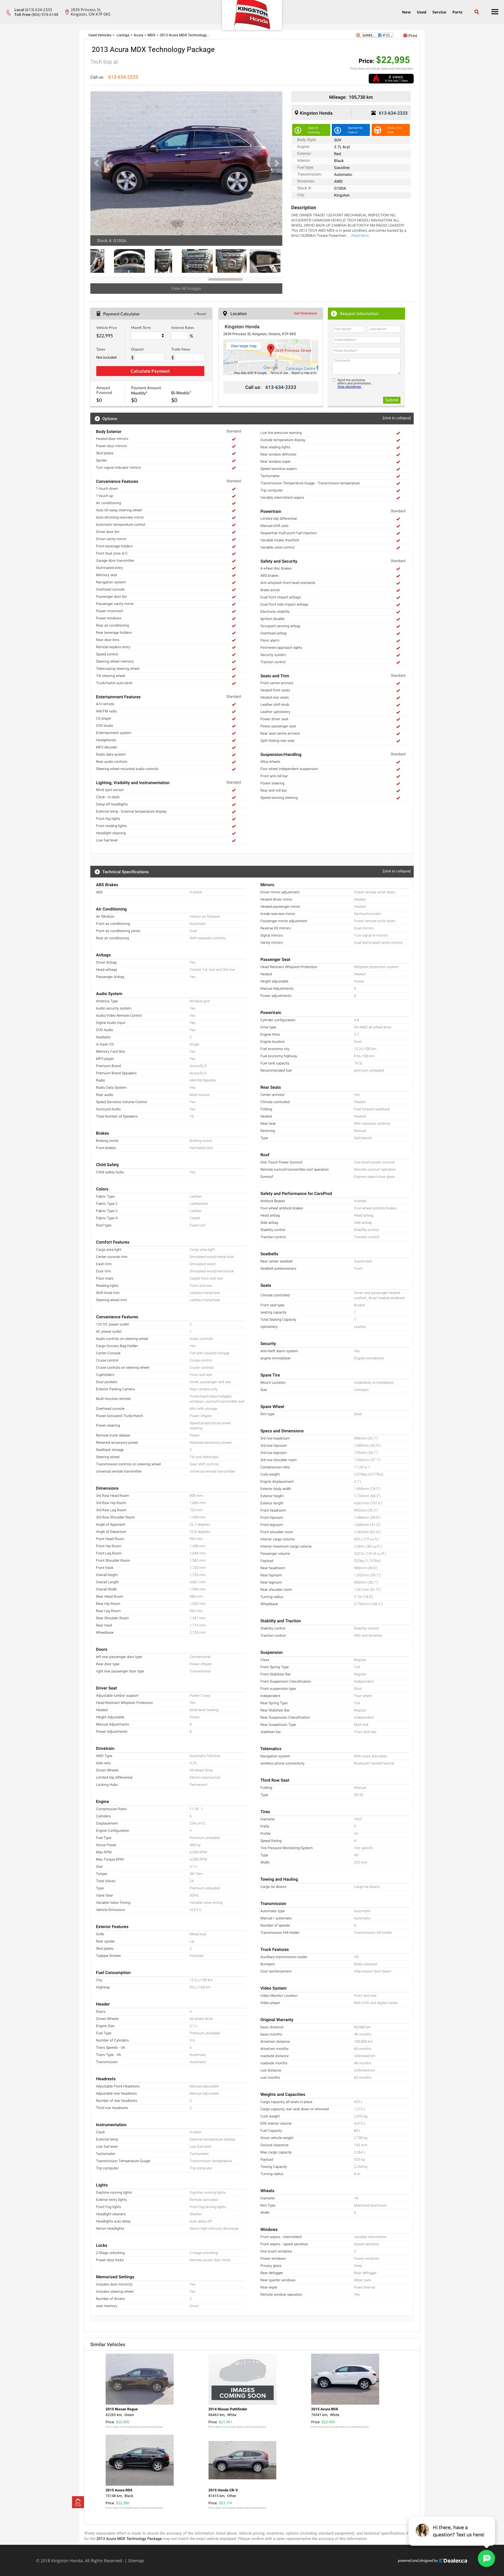car: (274, 161, 281, 168)
